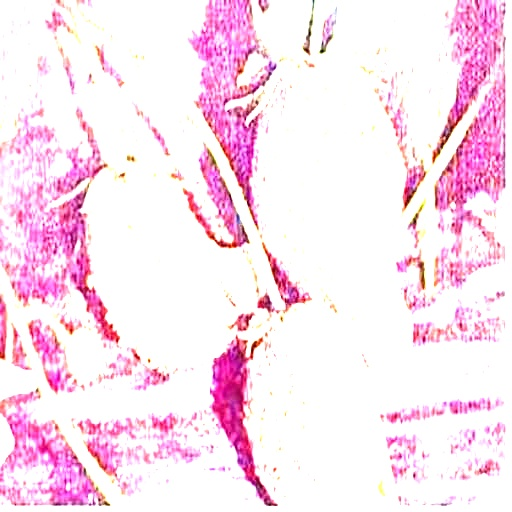Gray Mold: (83, 159, 257, 376), (236, 302, 400, 508)
